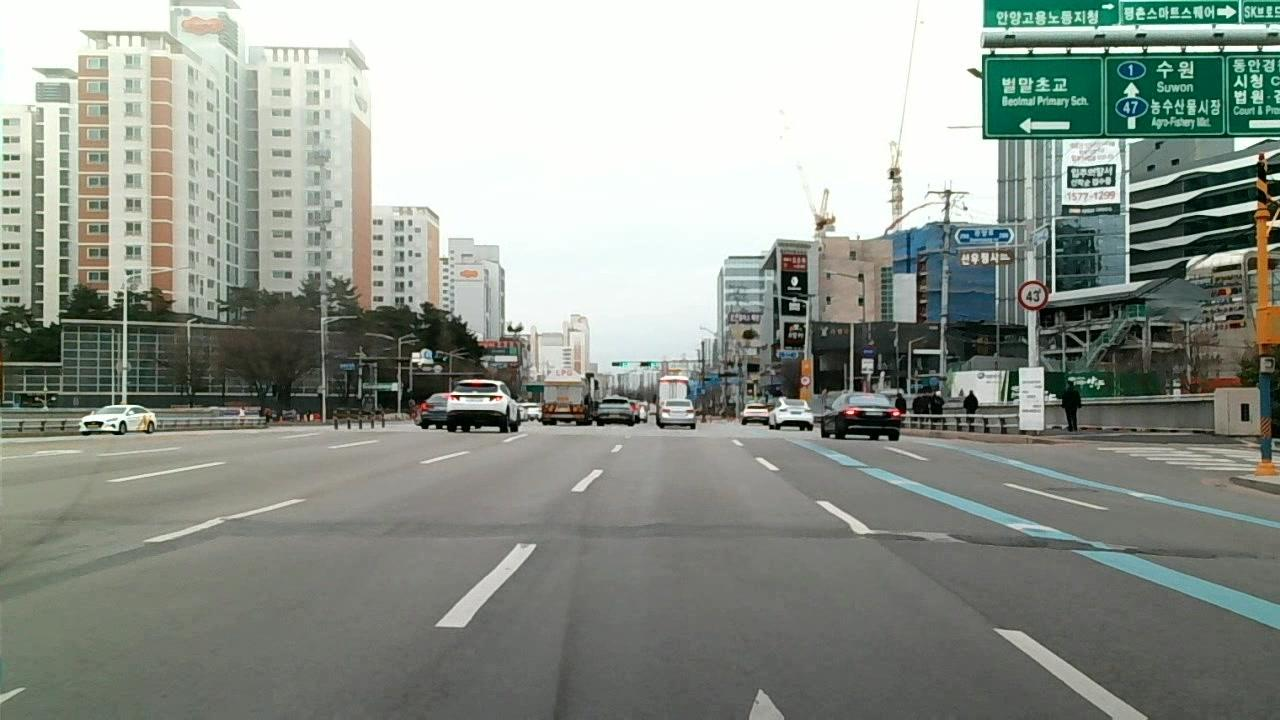banner: (872, 538, 989, 623), (991, 533, 1218, 561)
